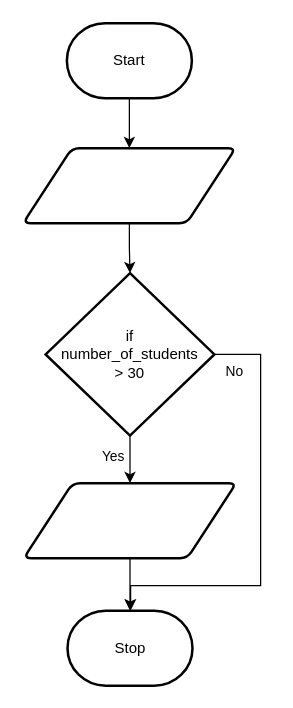
Some shapes in this 293 by 708 pixel diagram are drawn without their labels. The shapes that lost their labels are listed below. From the top down, each one's centre as x and y in pixels, then its label:
point (128, 185): Get number_of_students
point (129, 520): Show "Too many students!"
